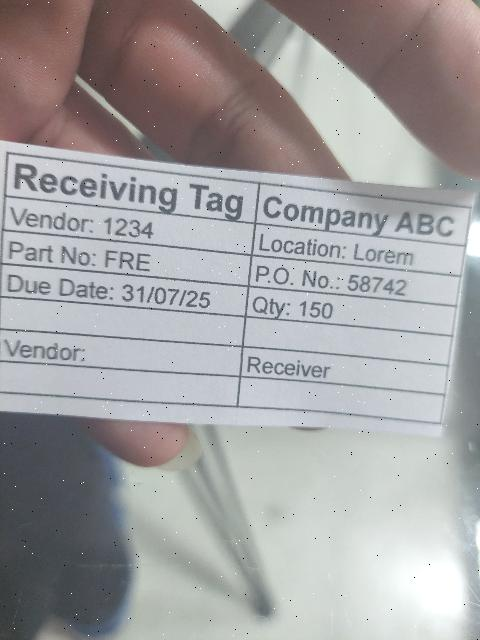PO no: (249, 256, 463, 307)
part no: (0, 225, 252, 290)
qty: (248, 285, 457, 336)
tags: (0, 141, 477, 441)
